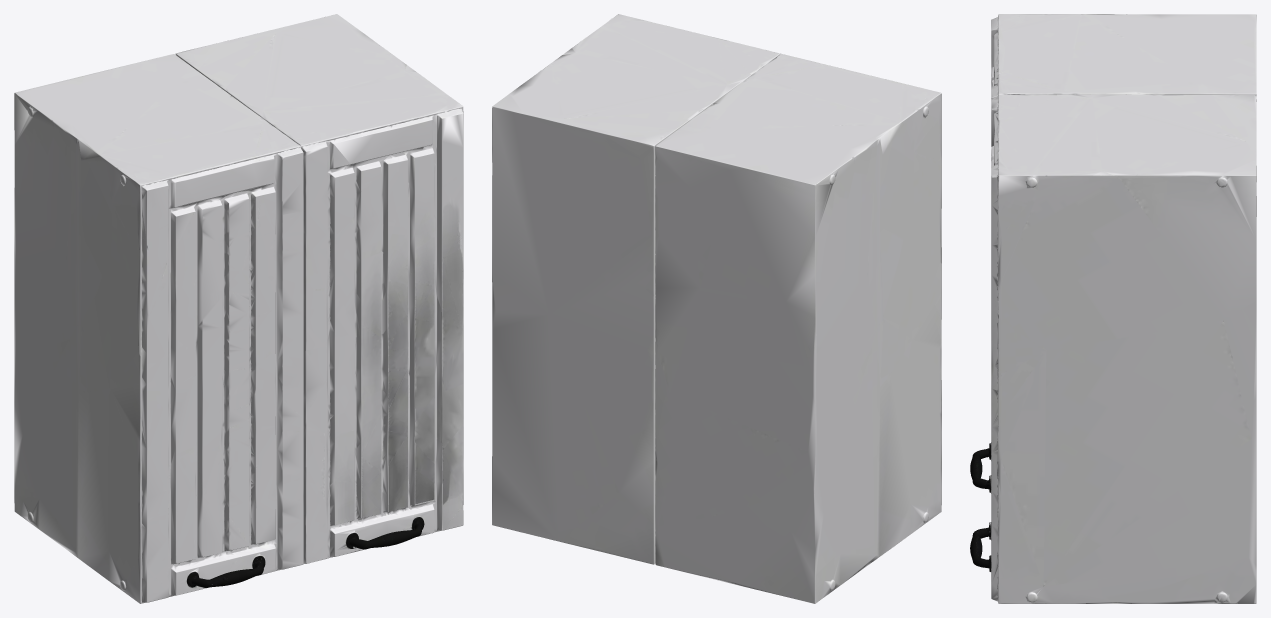
Rendered from oberschrank-01.glb.
3 views of the same model, side by side, from view 1: azimuth 30°, elevation 25°; view 2: azimuth 150°, elevation 25°; view 3: azimuth 270°, elevation 25° (orthographic). The views are drawn at different scales.
Bounding box in the file's own units: 1.55 × 1.9 × 1.15.
1 material, 1 textured.
